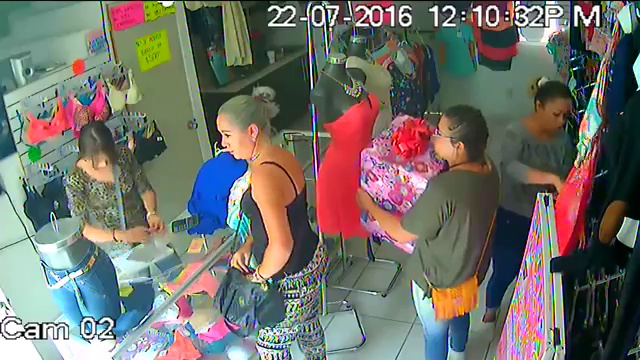face: (220, 112, 244, 160), (431, 123, 459, 156), (542, 101, 570, 131)
